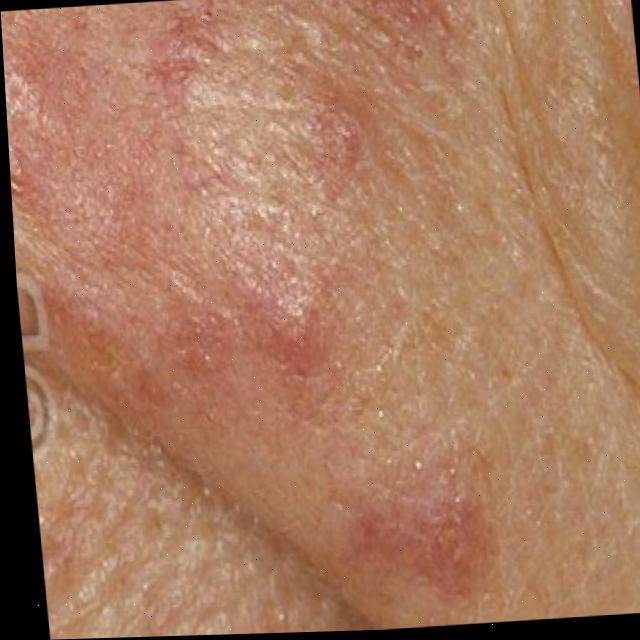Rosacea: (101, 0, 491, 574)
